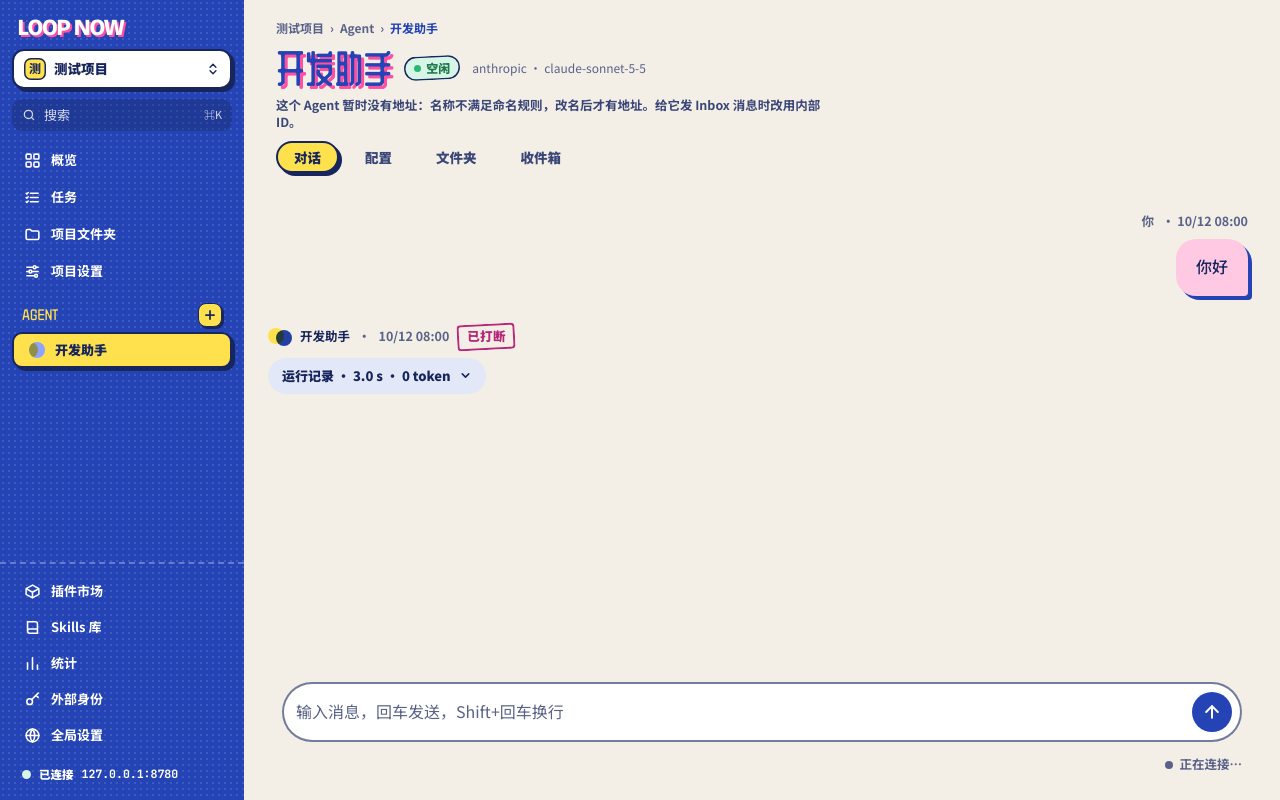
Test: 运行记录时间线 › 本功能上线前的回复只有部分时间点，只显示已有内容
Check: the element named "对话" is shown, box [268,213,1248,394]
Click the button "运行记录 · 3.0 s · 0 token" at {"x": 377, "y": 376}, box [268,358,486,394]
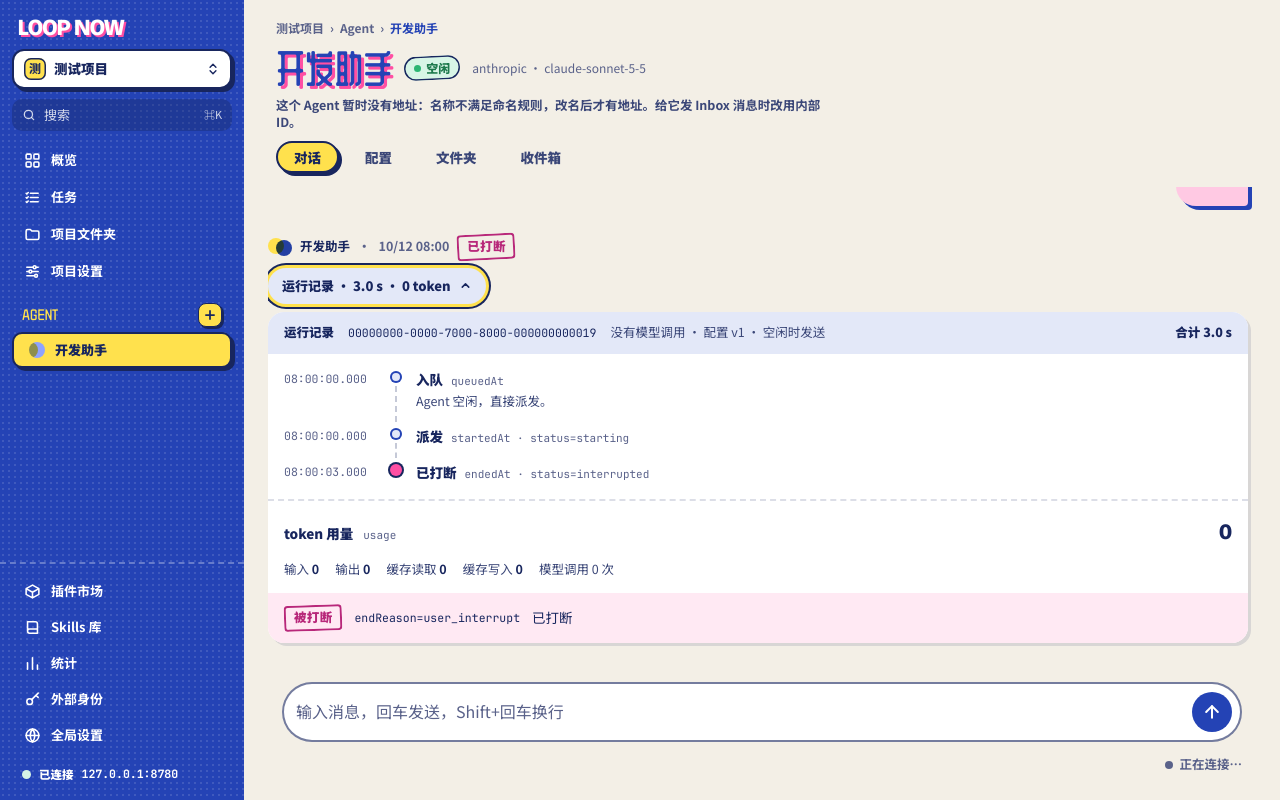
Check: the text "派发" is shown, box [416,425,443,449]
Check: the text "已打断" next to "endedAt · status=interrupted" is shown, box [416,464,456,481]
